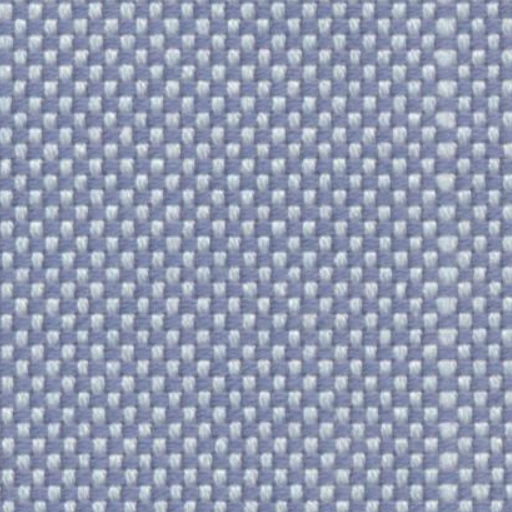TuoSha: (406, 16, 488, 507)
